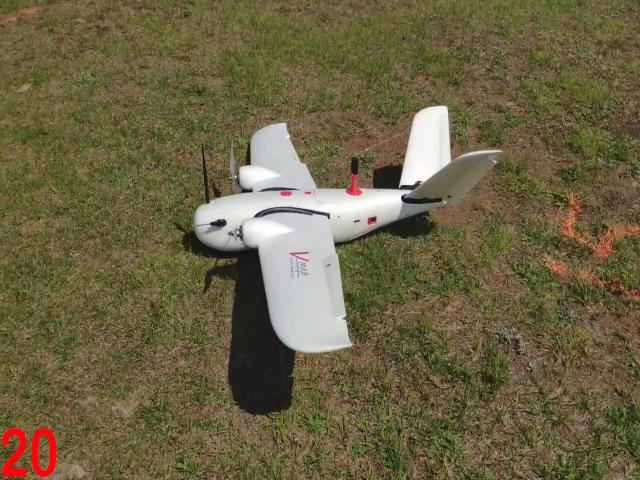plane: (197, 106, 505, 356)
